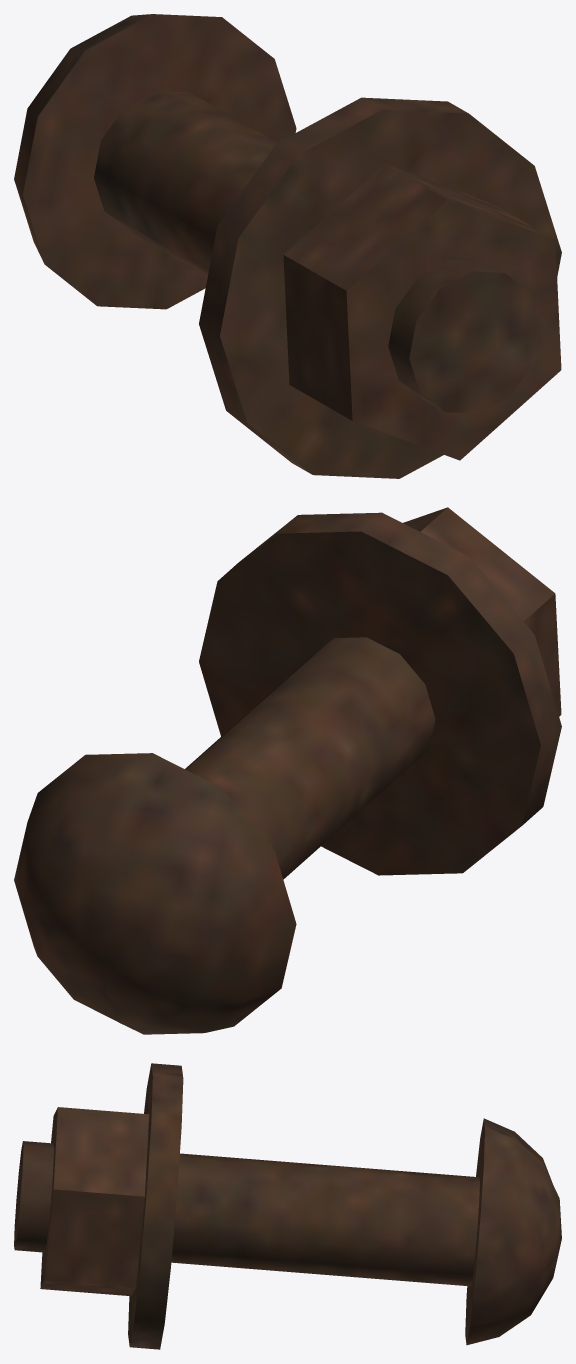
The model's file is bolt_mx_1.obj.
3 views of the same model, one above another, from view 1: azimuth 30°, elevation 25°; view 2: azimuth 150°, elevation 25°; view 3: azimuth 270°, elevation 25° (orthographic). The views are drawn at different scales.
Parts seen in each view (by area): view 1: bolt_mx_1; view 2: bolt_mx_1; view 3: bolt_mx_1.
Part boxes in pixels (left/top/right/bottom): bolt_mx_1: left=14, top=14, right=561, bottom=478; bolt_mx_1: left=14, top=507, right=561, bottom=1034; bolt_mx_1: left=14, top=1063, right=561, bottom=1349.
Bounding box in the file's own units: 0.0936 × 0.0941 × 0.1794.
